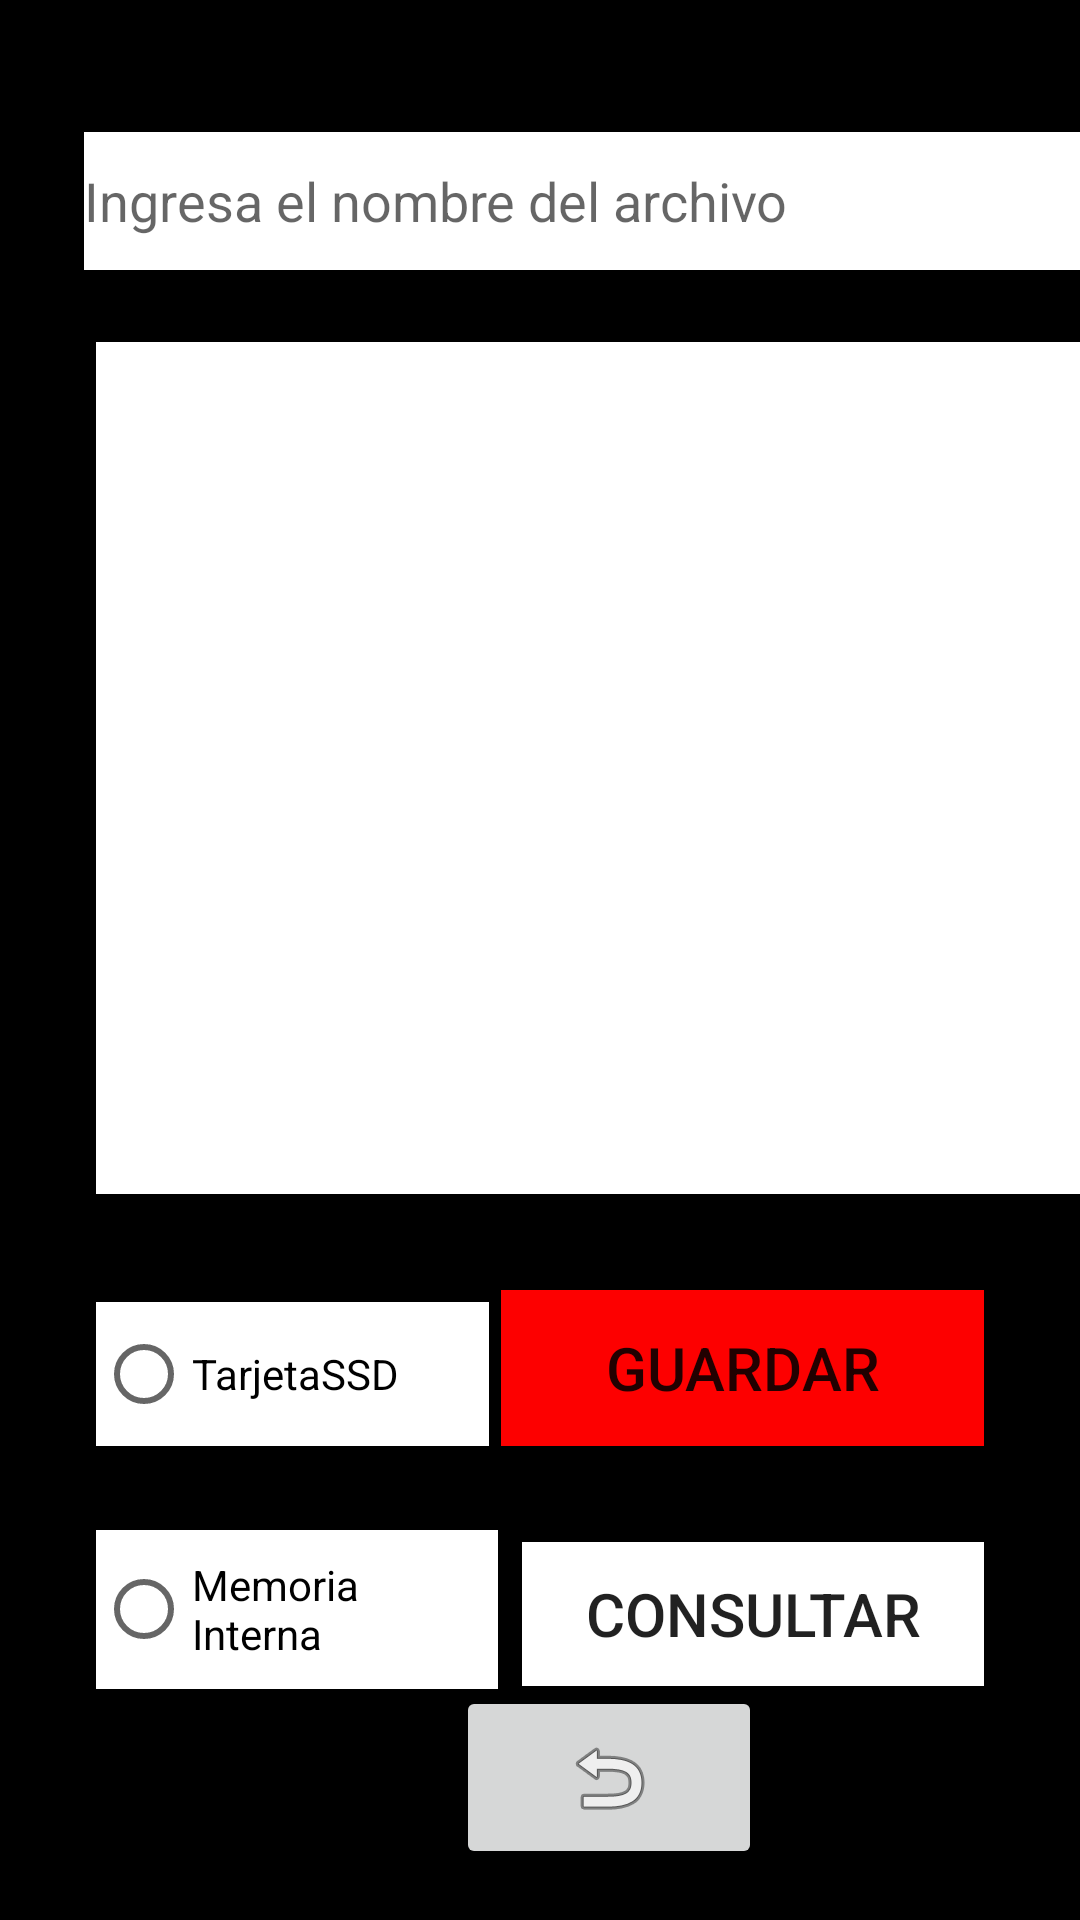

Point at icon controls on the screen. Image size 1080 × 1920, points as (x=x, y=y).
revert: (x=609, y=1777)
